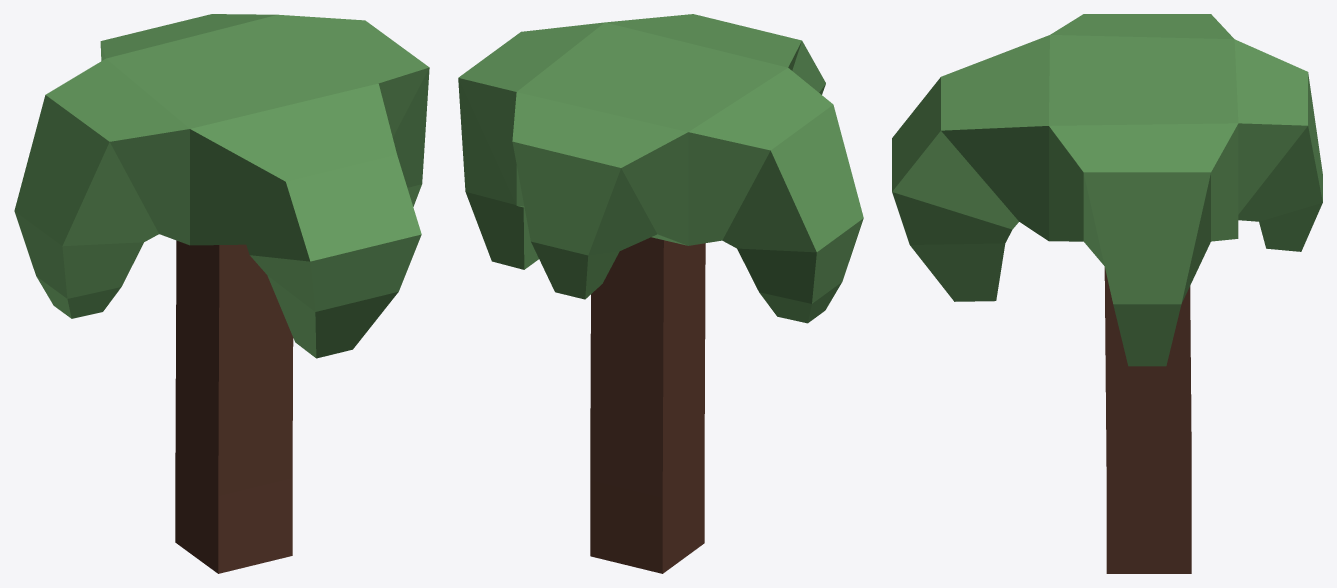
File: Oaksapling_1.glb
3 views of the same model, side by side, from view 1: azimuth 30°, elevation 25°; view 2: azimuth 150°, elevation 25°; view 3: azimuth 270°, elevation 25° (orthographic). The views are drawn at different scales.
Parts seen in each view (by area): view 1: Cube.005, Cube.004; view 2: Cube.005, Cube.004; view 3: Cube.005, Cube.004.
Boxes of the visible parts, bbox=[...] form: Cube.005: bbox=[14, 14, 429, 358]; Cube.004: bbox=[175, 240, 293, 573]; Cube.005: bbox=[458, 14, 863, 323]; Cube.004: bbox=[590, 237, 705, 573]; Cube.005: bbox=[892, 14, 1322, 366]; Cube.004: bbox=[1104, 267, 1191, 573].
Bounding box in the file's own units: 3.41 × 4.26 × 3.5.
